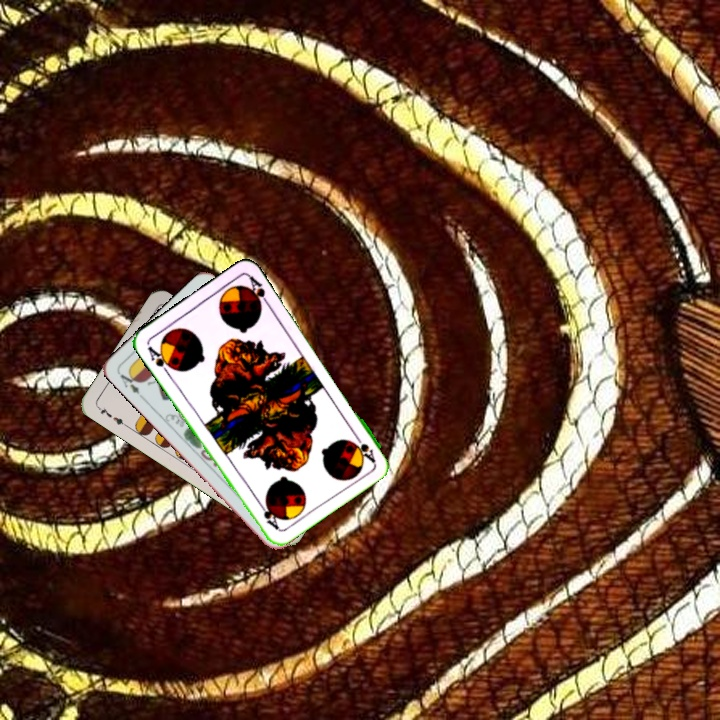E7: (94, 403, 130, 430)
EA: (115, 367, 147, 401)
SA: (143, 342, 177, 377), (349, 429, 378, 465)
